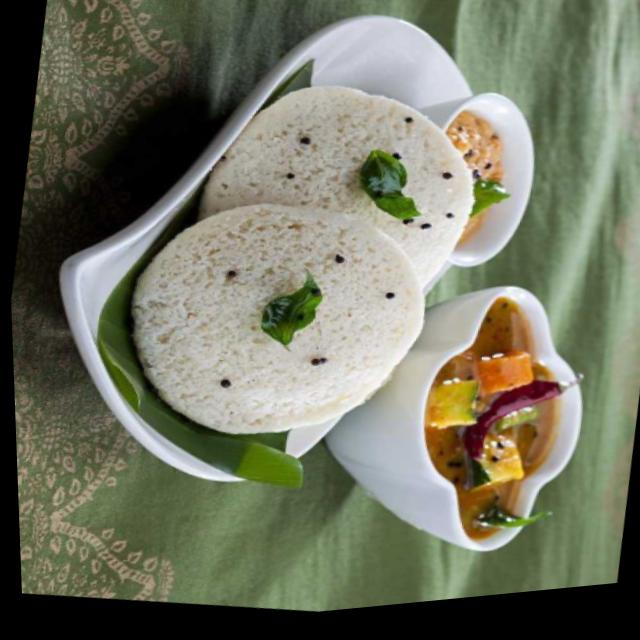IDLI: (129, 87, 474, 434)
SAMBAR: (423, 300, 559, 540)
WHITE CHUTNEY: (443, 111, 506, 245)
